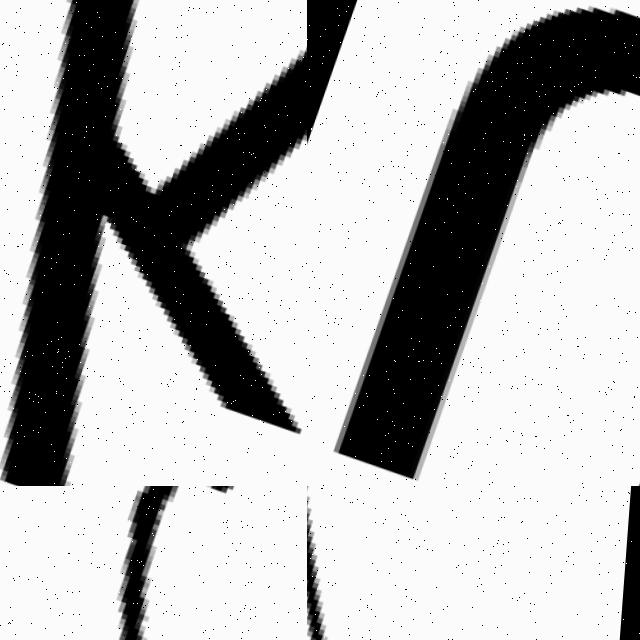K: (0, 0, 307, 486)
Q: (0, 486, 307, 640)
U: (321, 0, 640, 486)
V: (307, 486, 555, 640)
